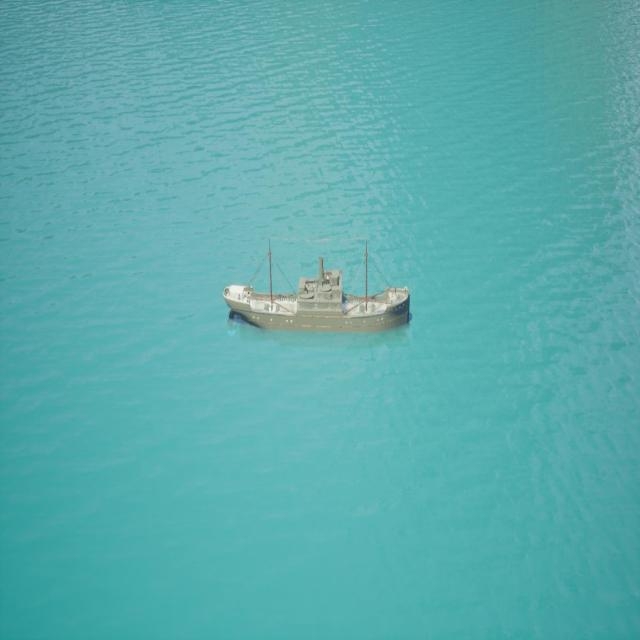fishing ship: (224, 238, 413, 337)
